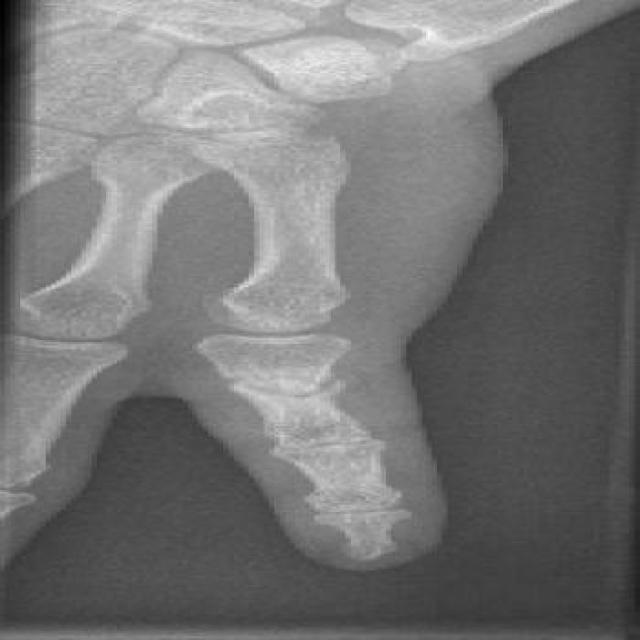Fracture: (200, 370, 396, 410)
